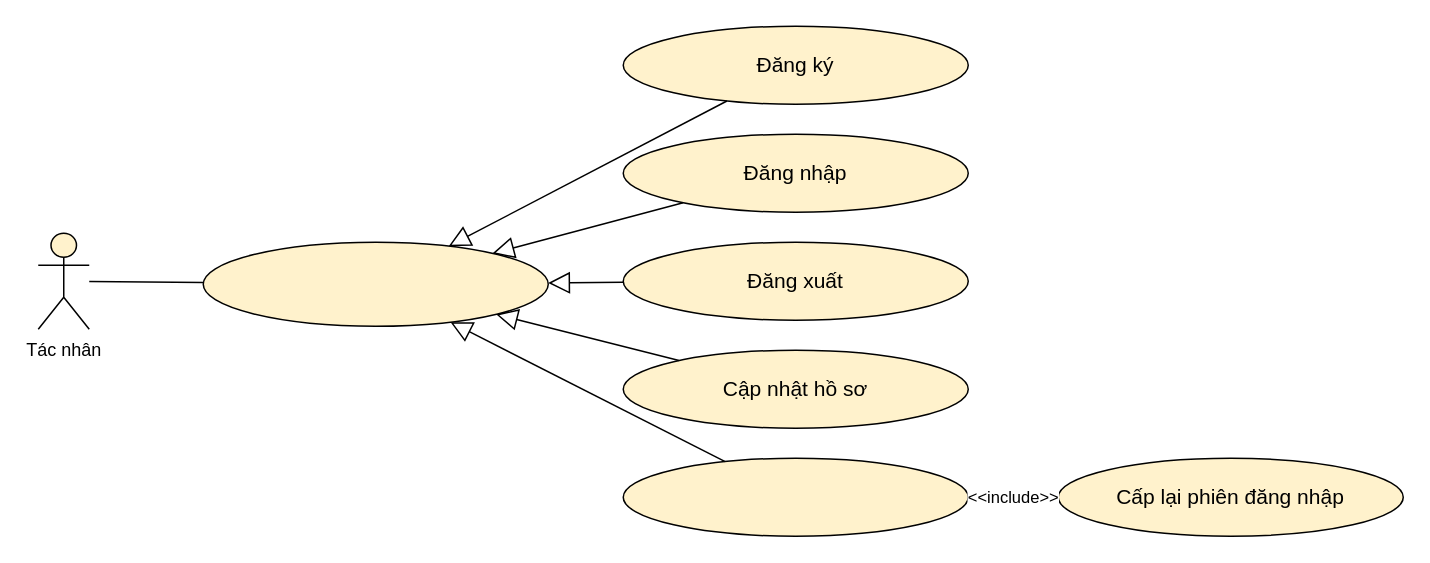
The diagram is 1430 pixels wide and 563 high, and some of its shapes have lost their labels. The centre of each missing label's shape, as x and y in pixels:
"Xác thực và quản lý tài khoản" goes at point 375,283.
"Đổi mật khẩu" goes at point 795,496.
